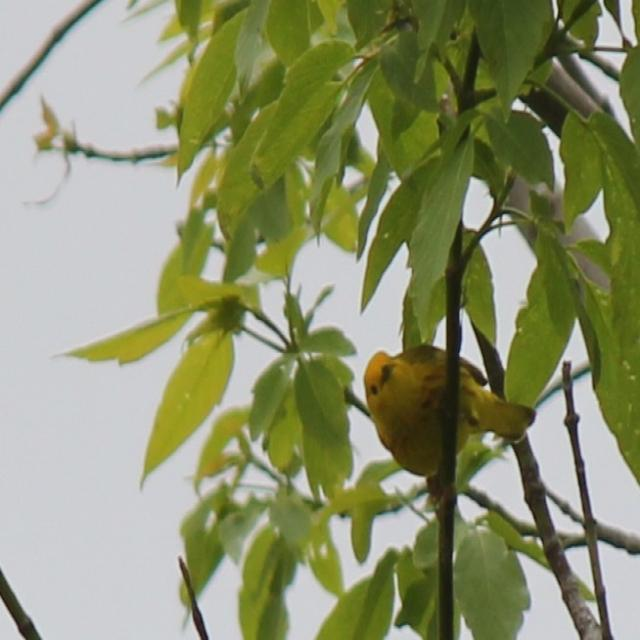bird: (360, 346, 534, 472)
